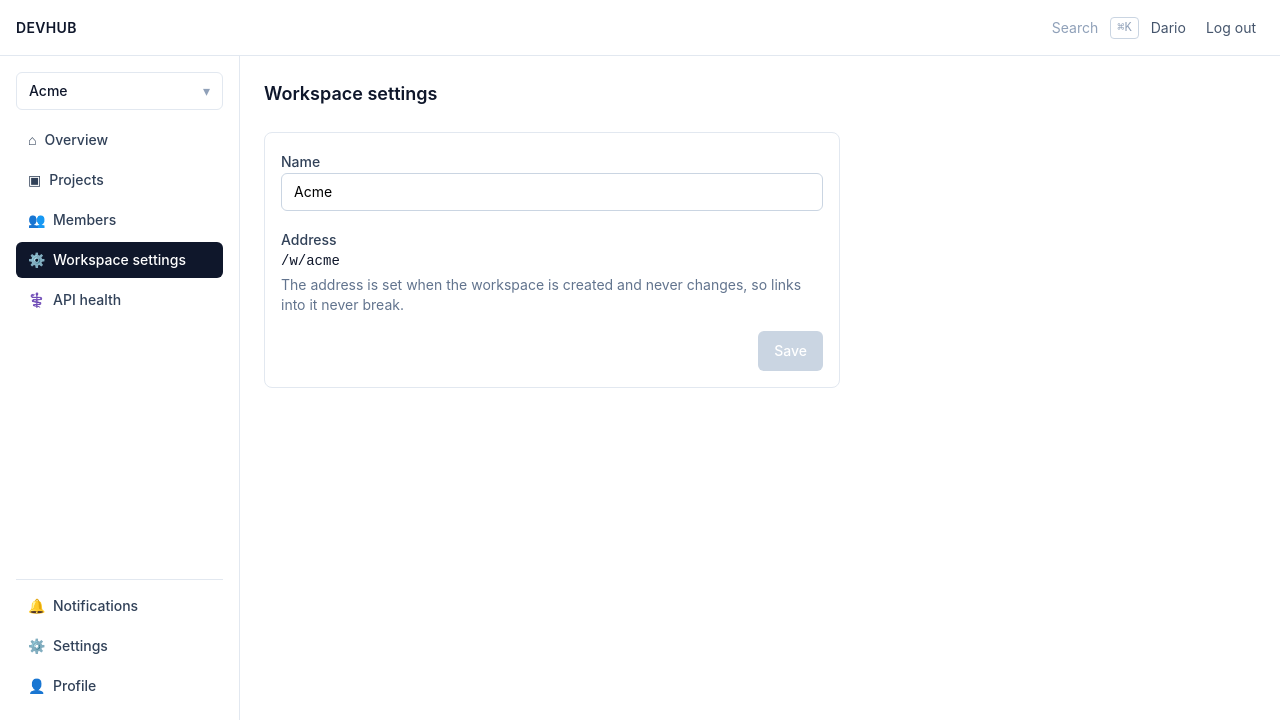
Test: as an owner › can rename the workspace
Replace the text in the field labelled "Name" with "Acme Corp": (552, 192) [281,173,823,211]
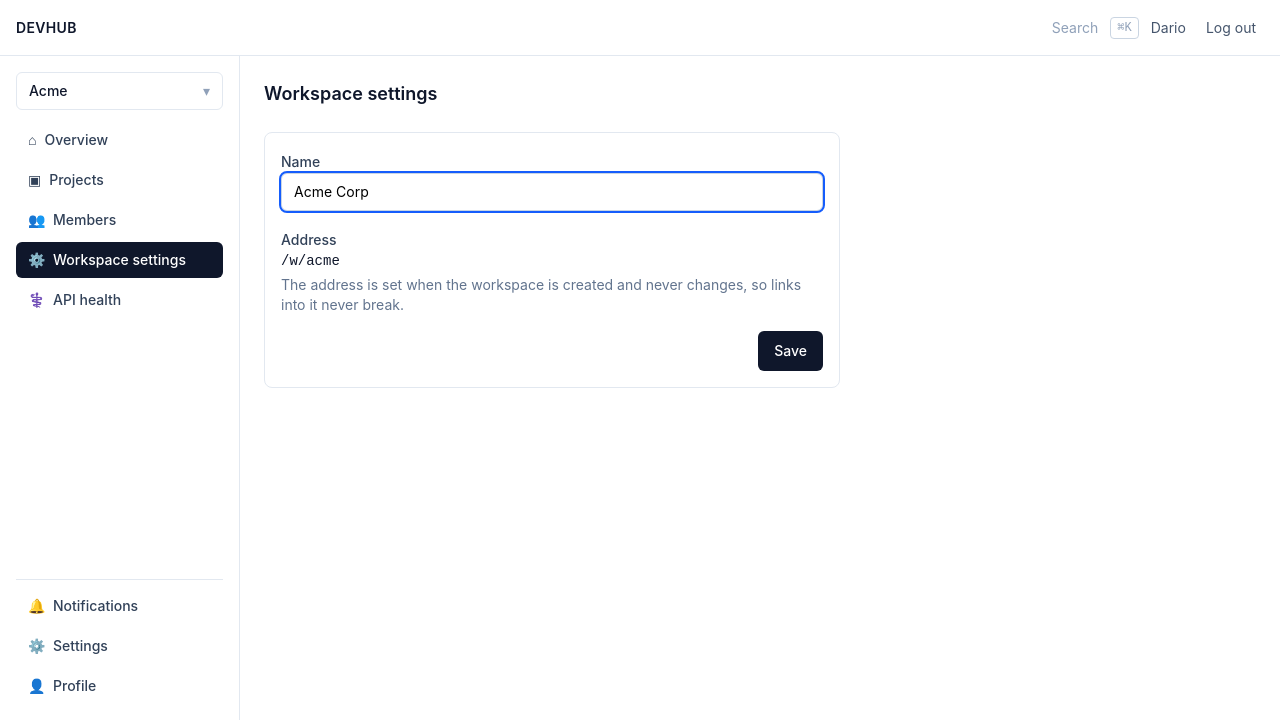
Click the button "Save": (791, 351) [758,331,823,371]
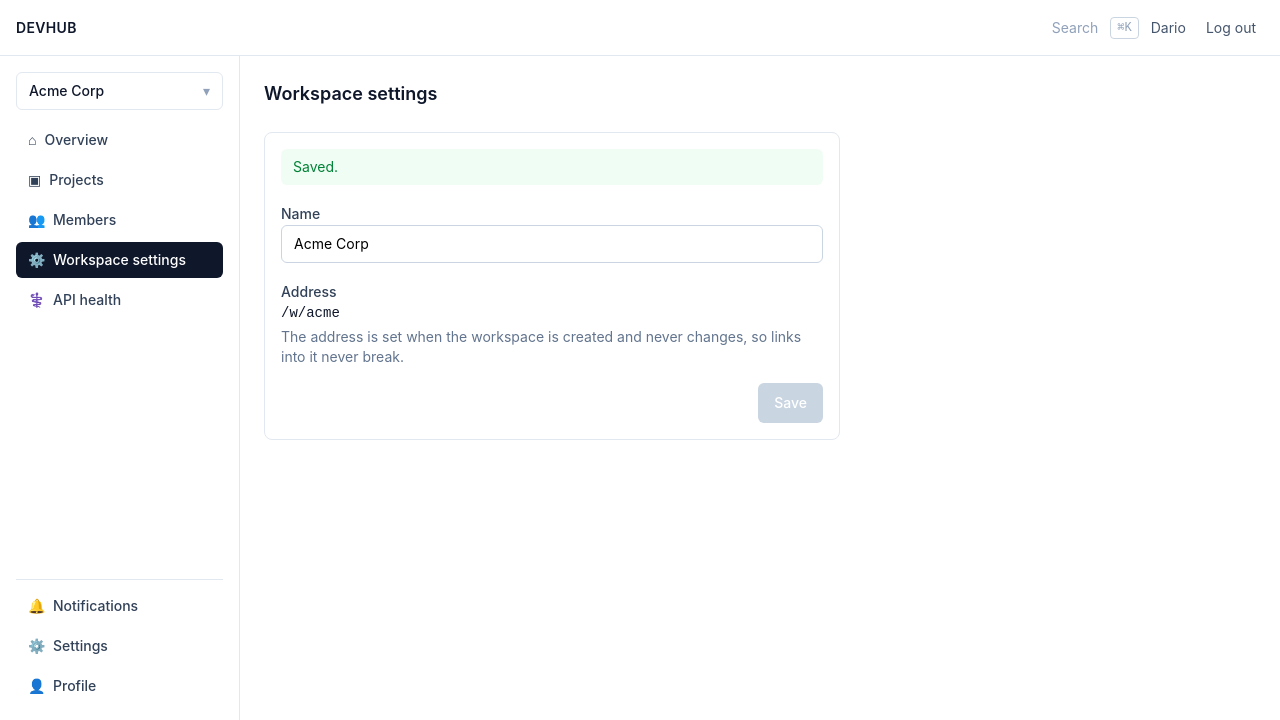
Check: the text "Saved." is shown, box [281,149,823,185]
